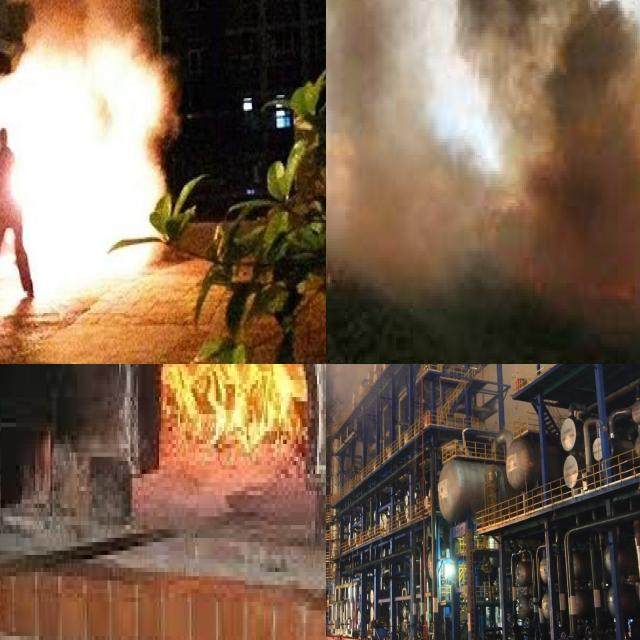fire: (0, 46, 173, 283), (145, 364, 315, 495)
smoke: (326, 0, 640, 305), (326, 364, 567, 438)
